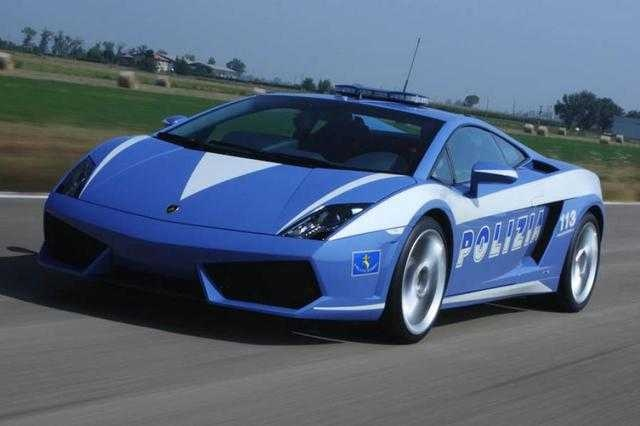Police Car: (62, 68, 618, 348)
